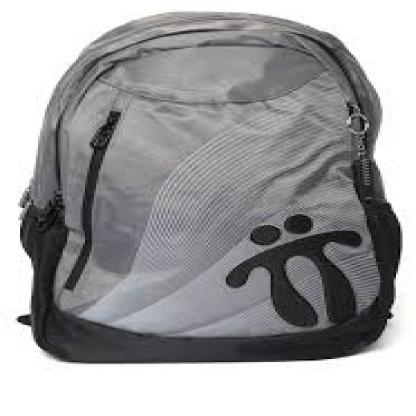morral: (6, 2, 414, 370)
